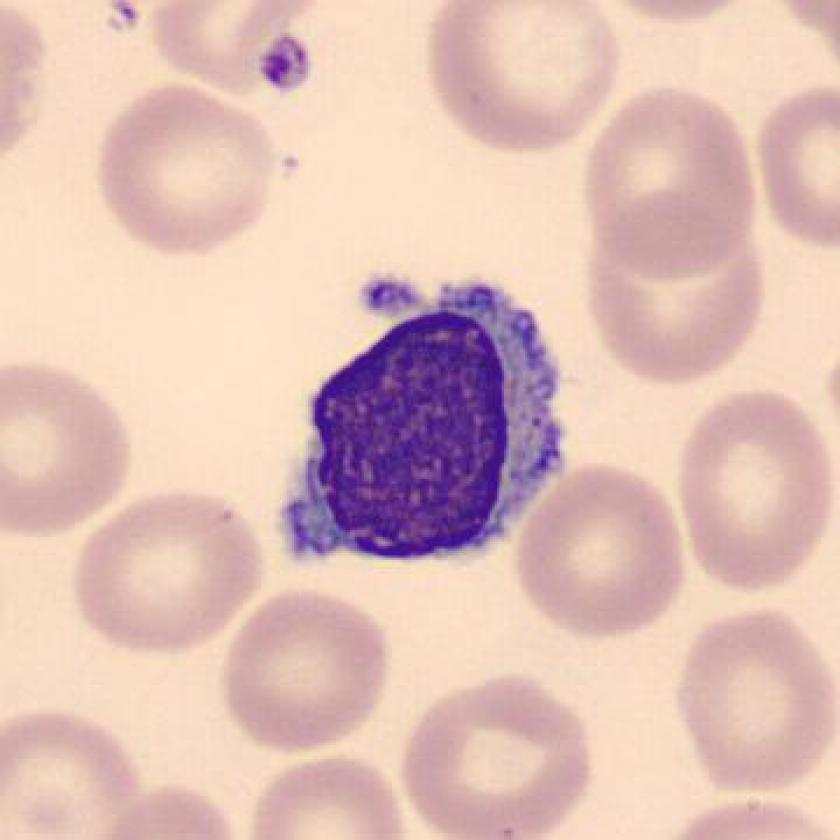lymphocyte: (274, 262, 575, 575)
